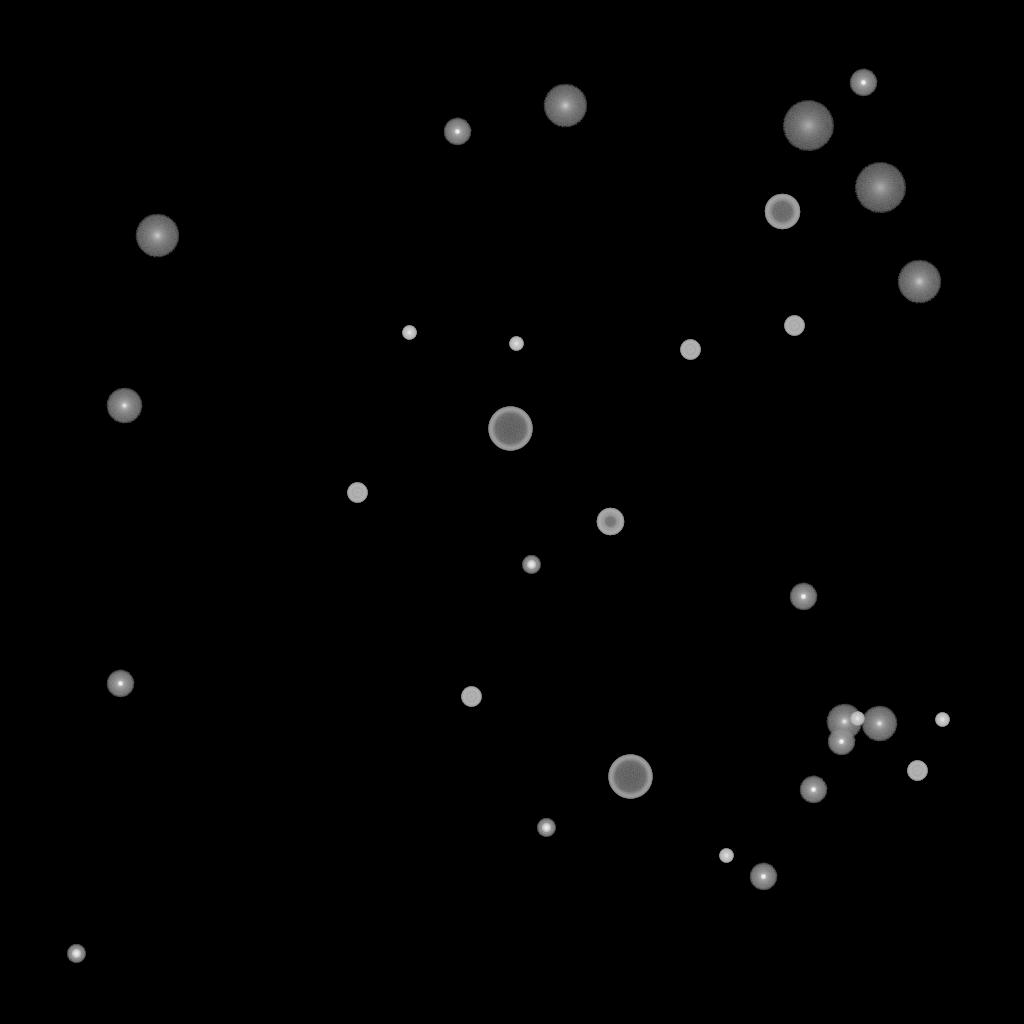depth:-10: (106, 670, 134, 698), (827, 728, 855, 756), (849, 69, 877, 97), (789, 583, 817, 611), (443, 118, 471, 146), (749, 863, 777, 891), (799, 776, 827, 804)
depth:-20: (522, 556, 540, 574), (537, 819, 555, 837), (67, 945, 85, 963)
depth:-30: (509, 337, 523, 351), (935, 713, 949, 727), (850, 712, 864, 726), (402, 326, 416, 340), (719, 849, 733, 863)
depth:-40: (907, 761, 927, 781), (461, 687, 481, 707), (784, 316, 804, 336), (347, 483, 367, 503), (680, 340, 700, 360)
depth:-50: (596, 508, 624, 536)
depth:-60: (764, 194, 800, 230)
depth:-70: (608, 755, 652, 799), (488, 407, 532, 451)
depth:0: (106, 388, 142, 424), (861, 706, 897, 742), (826, 704, 862, 740)
depth:10: (135, 214, 179, 258), (897, 260, 941, 304), (543, 84, 587, 128)
depth:20: (854, 163, 906, 213), (782, 101, 834, 151)
